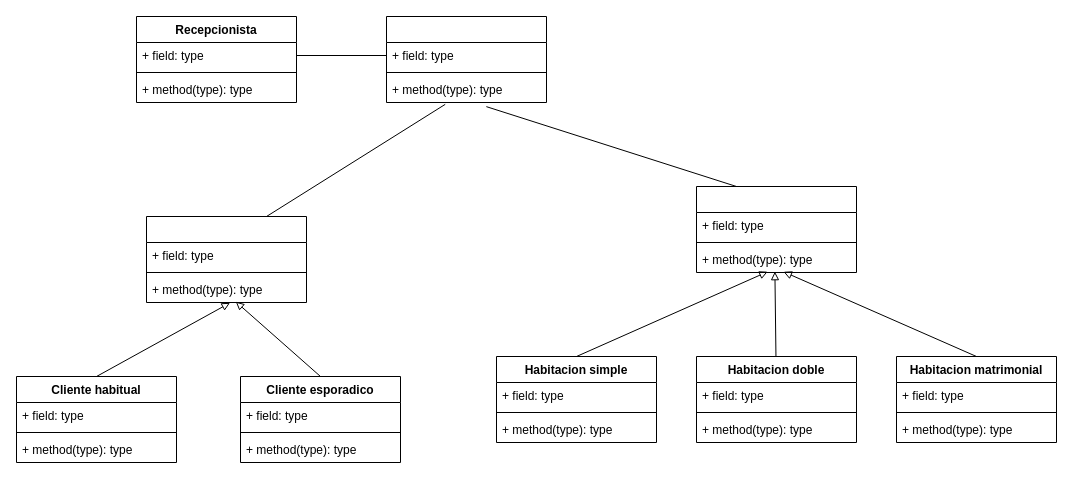
This 1073x479 diagram has some shape labels left out. Each missing label, with the box of its shape:
Cliente: (146, 216, 306, 302)
Habitacion: (696, 186, 856, 272)
Reserva: (386, 16, 546, 102)
